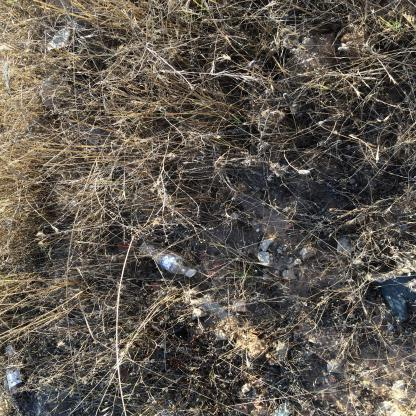plastik: (138, 242, 197, 277)
